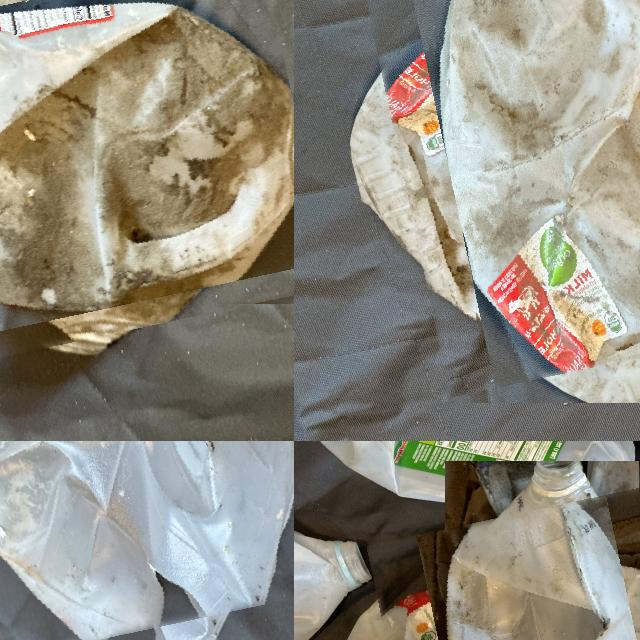milk-jug: (0, 0, 294, 347), (380, 0, 640, 378), (0, 441, 294, 640), (379, 498, 640, 640), (294, 441, 640, 510), (294, 504, 369, 640)
